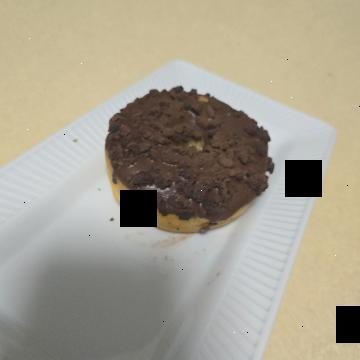doughnut: (83, 76, 260, 270)
